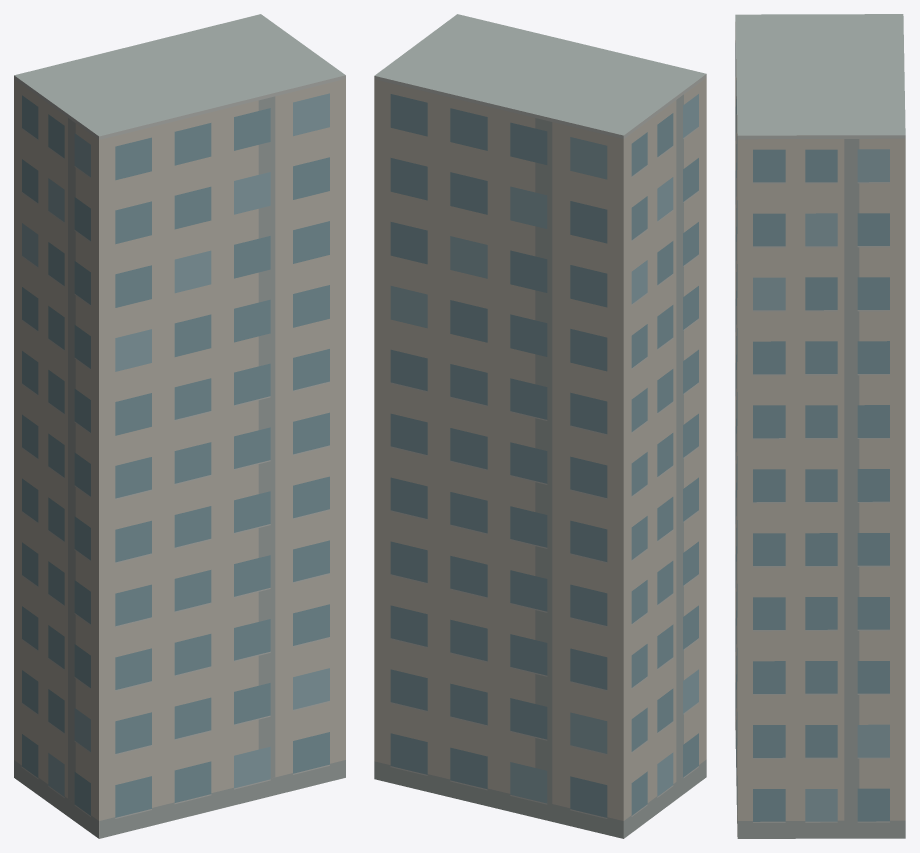
Rendered from residential-f17616aa-b640-4137-93ed-84ec66761d3b.glb.
3 views of the same model, side by side, from view 1: azimuth 30°, elevation 25°; view 2: azimuth 150°, elevation 25°; view 3: azimuth 270°, elevation 25° (orthographic).
Visible parts, largest first — view 1: residential-f17616aa-b640-4137-93ed-84ec66761d3b.tmp; view 2: residential-f17616aa-b640-4137-93ed-84ec66761d3b.tmp; view 3: residential-f17616aa-b640-4137-93ed-84ec66761d3b.tmp.
Part boxes in pixels (bbox=[...]): residential-f17616aa-b640-4137-93ed-84ec66761d3b.tmp: bbox=[14, 14, 345, 838]; residential-f17616aa-b640-4137-93ed-84ec66761d3b.tmp: bbox=[374, 14, 706, 838]; residential-f17616aa-b640-4137-93ed-84ec66761d3b.tmp: bbox=[735, 14, 905, 838].
Size of the model in its own units: 17.82 by 48 by 10.54.
